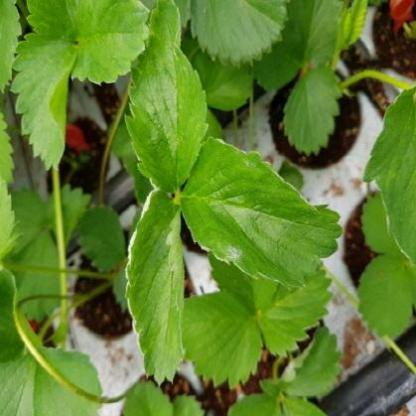Strawberry_Powdery_Mildew_Leaf: (178, 136, 344, 288), (124, 188, 184, 388)
